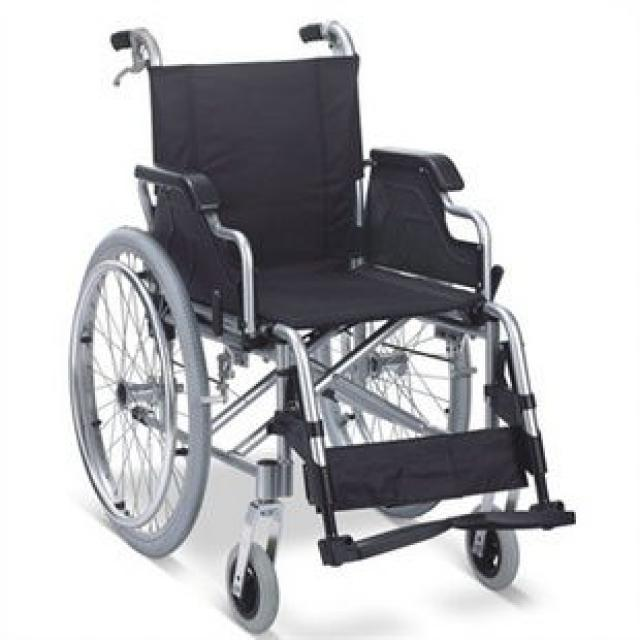wheelchair: (62, 21, 574, 634)
